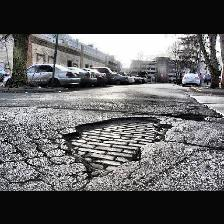pothole: (58, 115, 172, 179), (174, 112, 208, 120)
